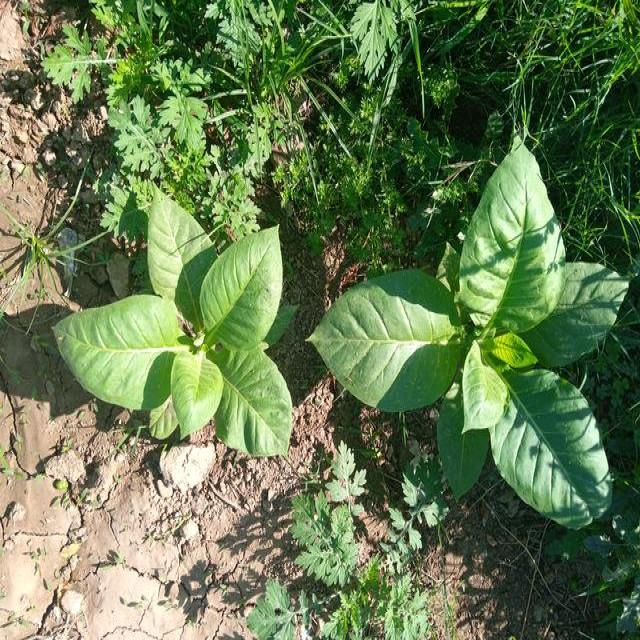crop: (310, 138, 626, 532), (51, 186, 296, 462)
